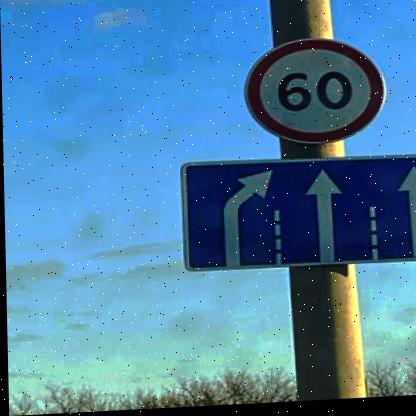Speed Limit -60-: (239, 35, 387, 150)
